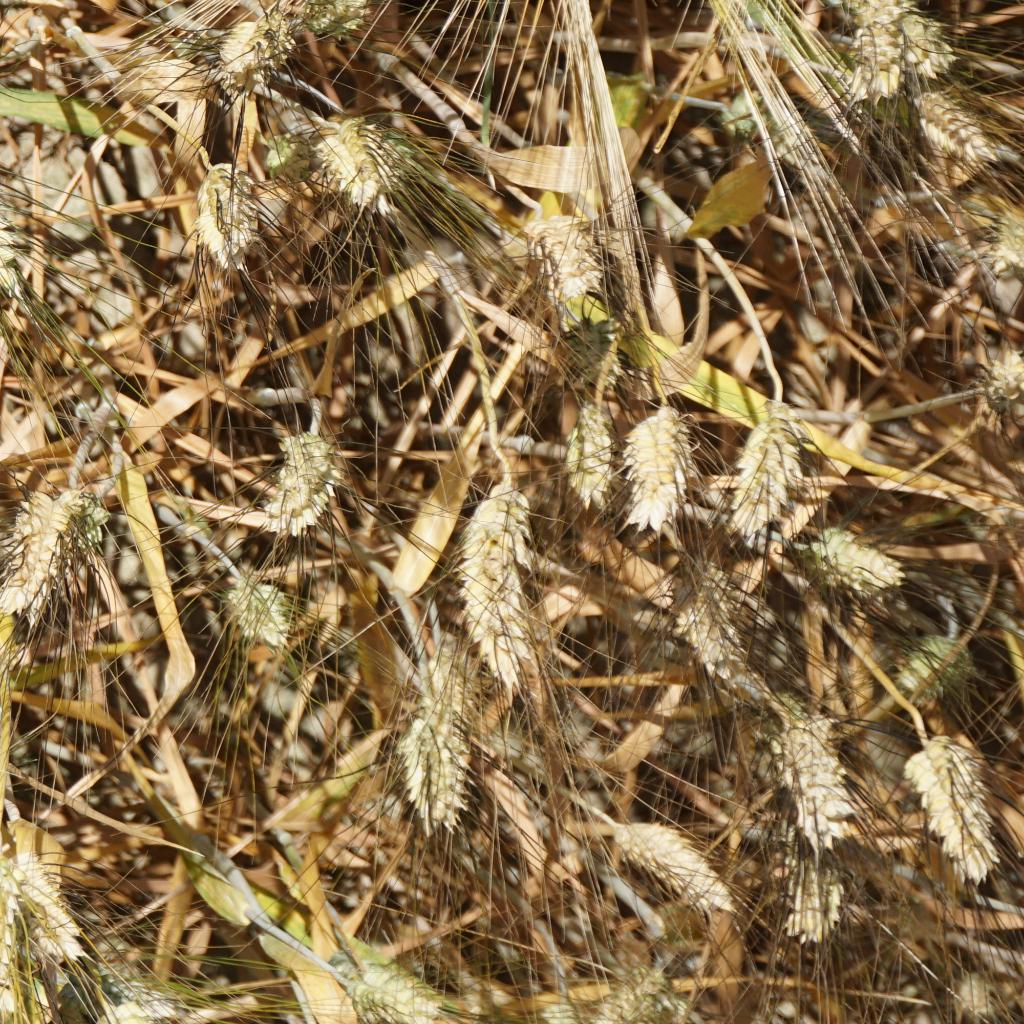0-0: (448, 481, 543, 681), (754, 712, 874, 857), (316, 101, 421, 224), (912, 736, 1001, 880), (714, 404, 809, 535), (658, 559, 754, 686), (617, 395, 697, 525), (613, 820, 723, 911), (0, 488, 77, 617), (187, 154, 266, 272), (6, 844, 79, 969), (272, 421, 348, 534), (520, 219, 604, 319), (217, 566, 292, 646), (793, 855, 855, 949), (408, 713, 457, 831), (331, 954, 410, 1024), (817, 524, 899, 591), (85, 953, 164, 1022), (841, 22, 904, 108), (840, 0, 968, 40), (913, 93, 989, 160), (427, 635, 473, 745), (565, 398, 614, 501), (216, 10, 286, 78), (0, 153, 34, 289), (603, 960, 673, 1024), (899, 626, 956, 696), (561, 320, 619, 382), (942, 967, 1001, 1024), (0, 855, 22, 1001), (260, 125, 317, 178), (73, 489, 115, 560), (297, 0, 373, 37), (986, 351, 1024, 412)
